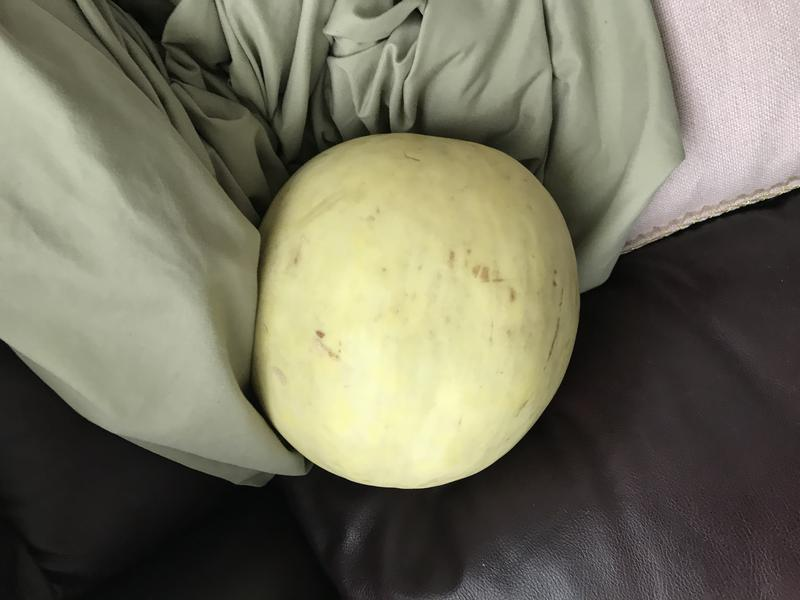honeydew: (245, 118, 585, 499)
